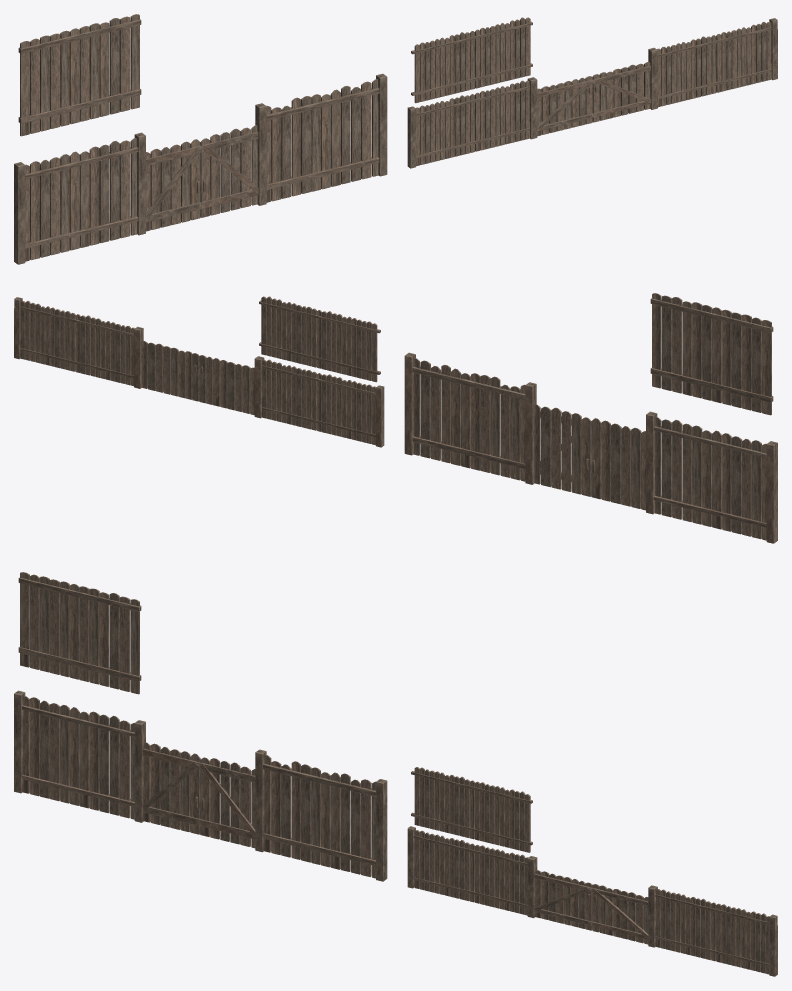
The model's file is Fences_1A1.fbx.
3 renders of one model, top to bottom at view 1: azimuth 30°, elevation 25°; view 2: azimuth 150°, elevation 25°; view 3: azimuth 330°, elevation 25°, orthographic.
Parts seen in each view (by area): view 1: Fence_2A2, Fence_2A3, Fence_2A1, Fence_1A2, Fence_1A3, Fence_1A1, Fence_Gate_2A_Right, Fence_Gate_2A_Left, Fence_Gate_1A_Right, Fence_Gate_1A_Left; view 2: Fence_2A2, Fence_2A3, Fence_2A1, Fence_1A2, Fence_1A3, Fence_1A1, Fence_Gate_2A_Right, Fence_Gate_2A_Left, Fence_Gate_1A_Right, Fence_Gate_1A_Left; view 3: Fence_2A3, Fence_2A2, Fence_2A1, Fence_1A3, Fence_1A2, Fence_1A1, Fence_Gate_2A_Left, Fence_Gate_2A_Right, Fence_Gate_1A_Left, Fence_Gate_1A_Right.
Boxes of the visible parts, x1,y1,x2,y2 form: Fence_2A2: (14, 138, 138, 264); Fence_2A3: (266, 73, 387, 202); Fence_2A1: (18, 14, 141, 136); Fence_1A2: (407, 80, 529, 168); Fence_1A3: (657, 18, 777, 107); Fence_1A1: (411, 17, 532, 103); Fence_Gate_2A_Right: (200, 103, 266, 217); Fence_Gate_2A_Left: (134, 132, 201, 235); Fence_Gate_1A_Right: (592, 47, 657, 122); Fence_Gate_1A_Left: (527, 76, 593, 139); Fence_2A2: (653, 417, 777, 543); Fence_2A3: (404, 352, 525, 481); Fence_2A1: (650, 293, 773, 415); Fence_1A2: (262, 359, 384, 447); Fence_1A3: (14, 297, 134, 386); Fence_1A1: (259, 296, 380, 382); Fence_Gate_2A_Right: (525, 382, 591, 496); Fence_Gate_2A_Left: (591, 411, 657, 514); Fence_Gate_1A_Right: (134, 326, 199, 401); Fence_Gate_1A_Left: (199, 355, 264, 418); Fence_2A3: (263, 754, 387, 881); Fence_2A2: (14, 690, 134, 819); Fence_2A1: (18, 572, 141, 694); Fence_1A3: (655, 889, 777, 976); Fence_1A2: (407, 826, 528, 915); Fence_1A1: (411, 767, 532, 852); Fence_Gate_2A_Left: (134, 720, 200, 834); Fence_Gate_2A_Right: (199, 749, 266, 852); Fence_Gate_1A_Left: (527, 856, 592, 930); Fence_Gate_1A_Right: (591, 884, 657, 947).
Bounding box in the file's own units: 2522 × 701 × 25.
